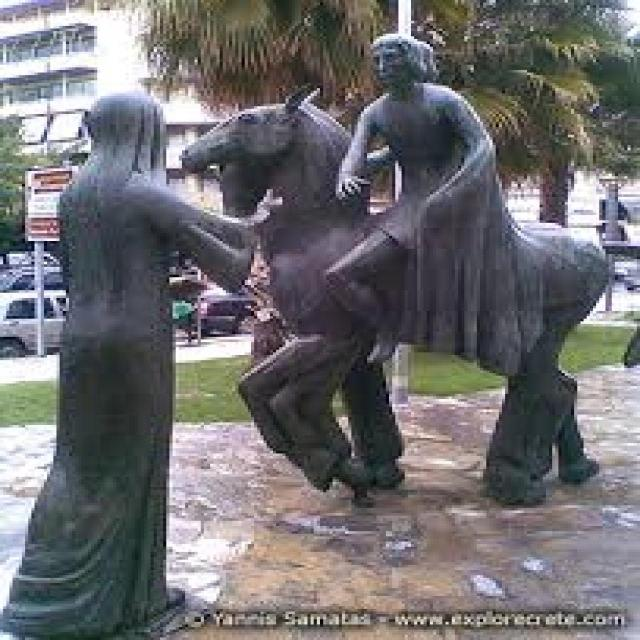Aretousa: (1, 32, 602, 640)
